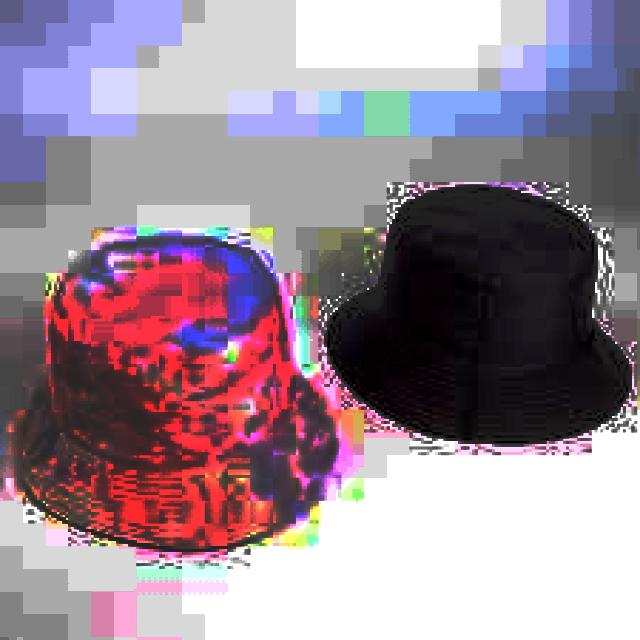TOPI: (6, 225, 336, 546), (324, 176, 629, 450)
